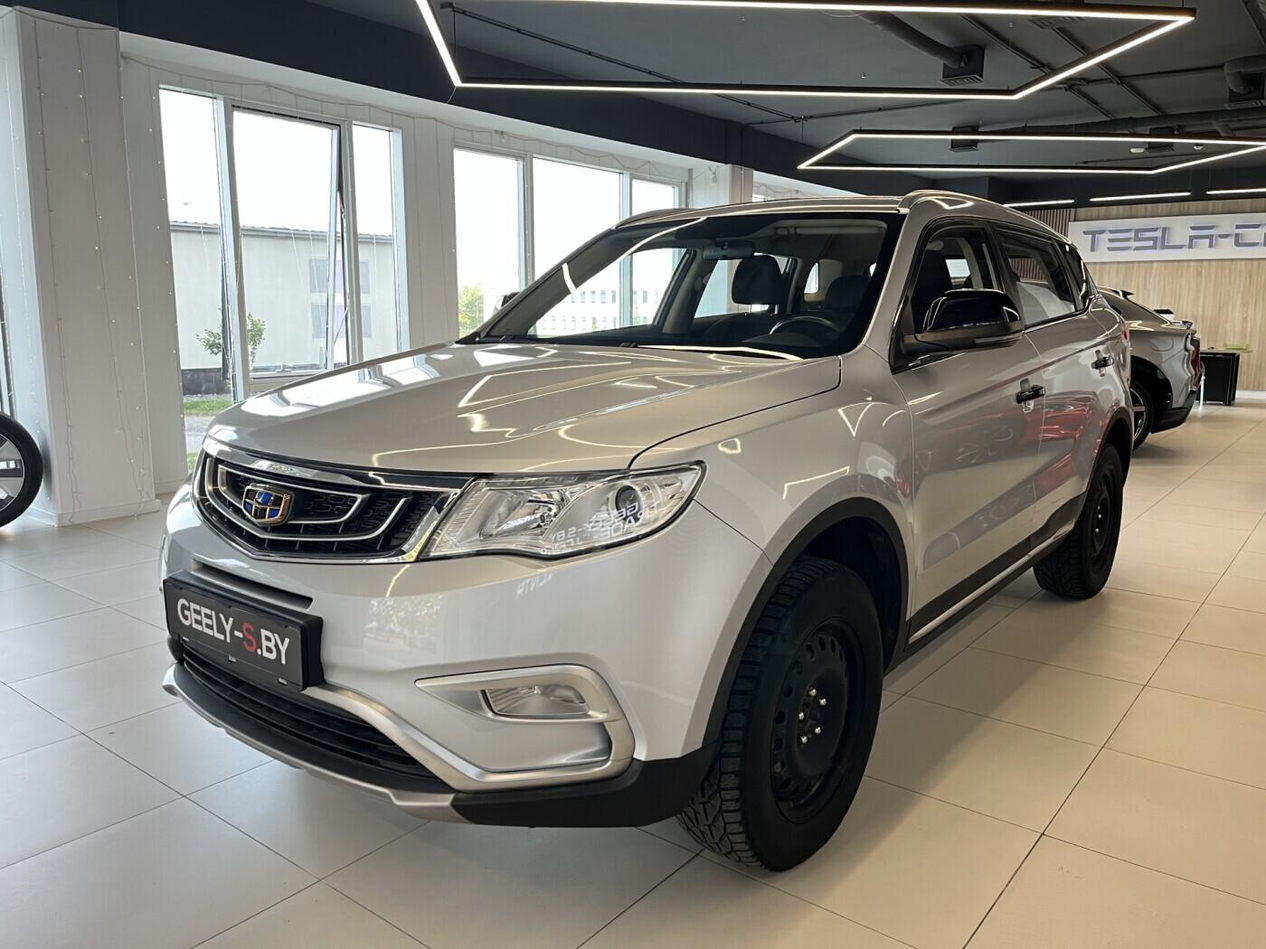Atlas_2016-2023: (152, 181, 1142, 878)
